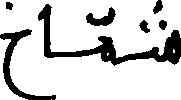X: (0, 0, 28, 99), (154, 0, 180, 69), (102, 2, 115, 70), (43, 0, 50, 99)
